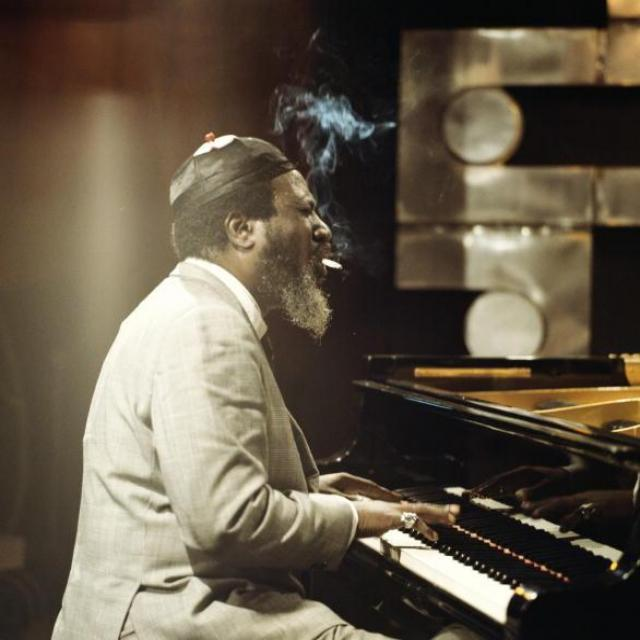Дым: (297, 93, 371, 155)
Сигарета: (320, 257, 342, 271)
Тело: (56, 134, 454, 640)
